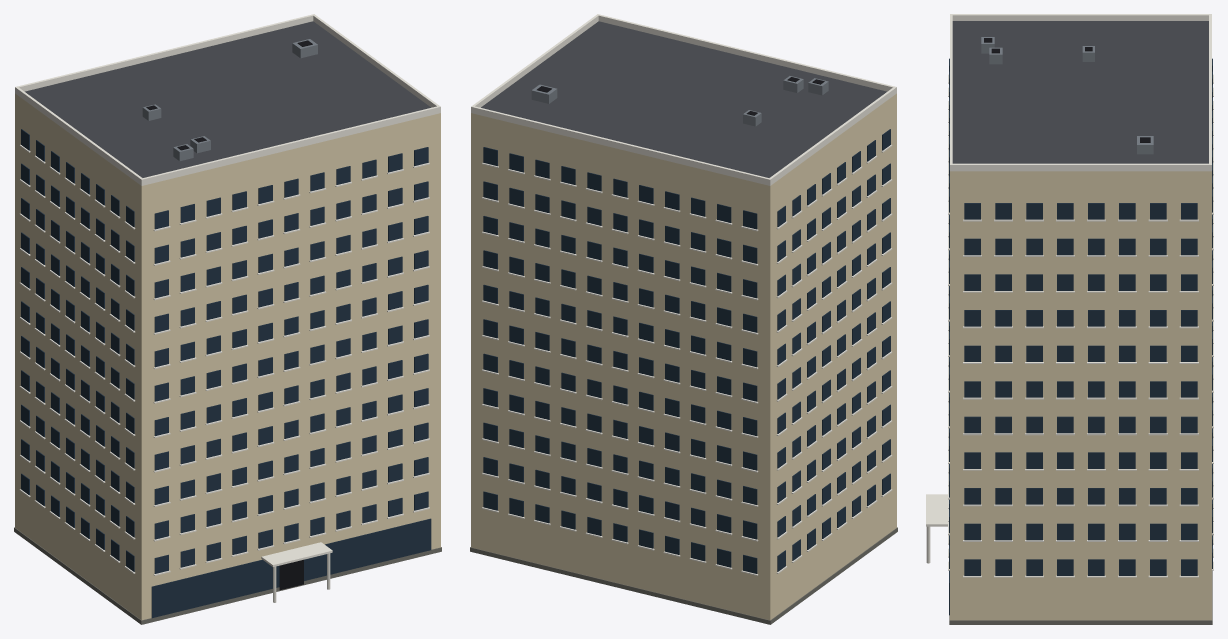
File: tower_c.glb
The picture shows the model from 3 angles, left to right: view 1: azimuth 30°, elevation 25°; view 2: azimuth 150°, elevation 25°; view 3: azimuth 270°, elevation 25°; orthographic projection. The views are drawn at different scales.
Parts seen in each view (by area): view 1: tower_c_Body; view 2: tower_c_Body; view 3: tower_c_Body.
Part boxes in pixels (box(x1,y1,x2,y2)): tower_c_Body: box(14, 14, 441, 624); tower_c_Body: box(470, 14, 897, 624); tower_c_Body: box(926, 14, 1213, 624).
Size of the model in its own units: 30.32 by 43 by 24.16.
